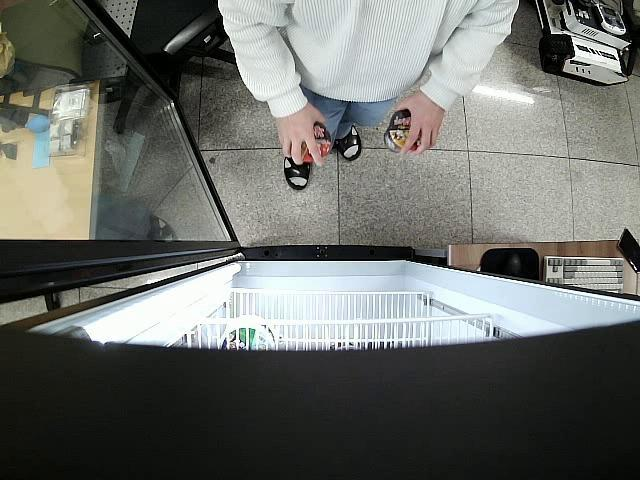08_buldak_S: (382, 110, 421, 155), (302, 118, 332, 164)
